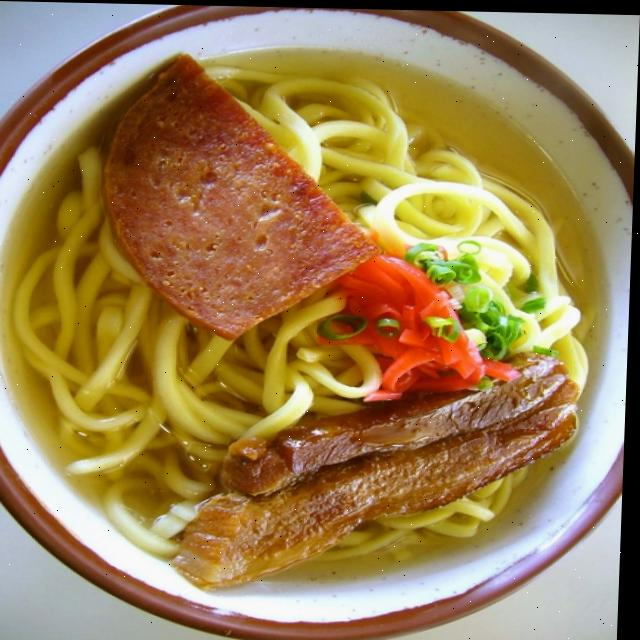面包点心: (0, 69, 623, 640)
